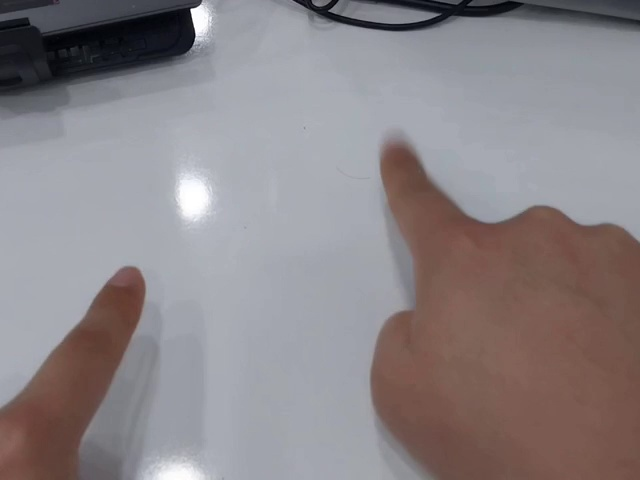fingers: (93, 265, 147, 317), (379, 139, 426, 180)
